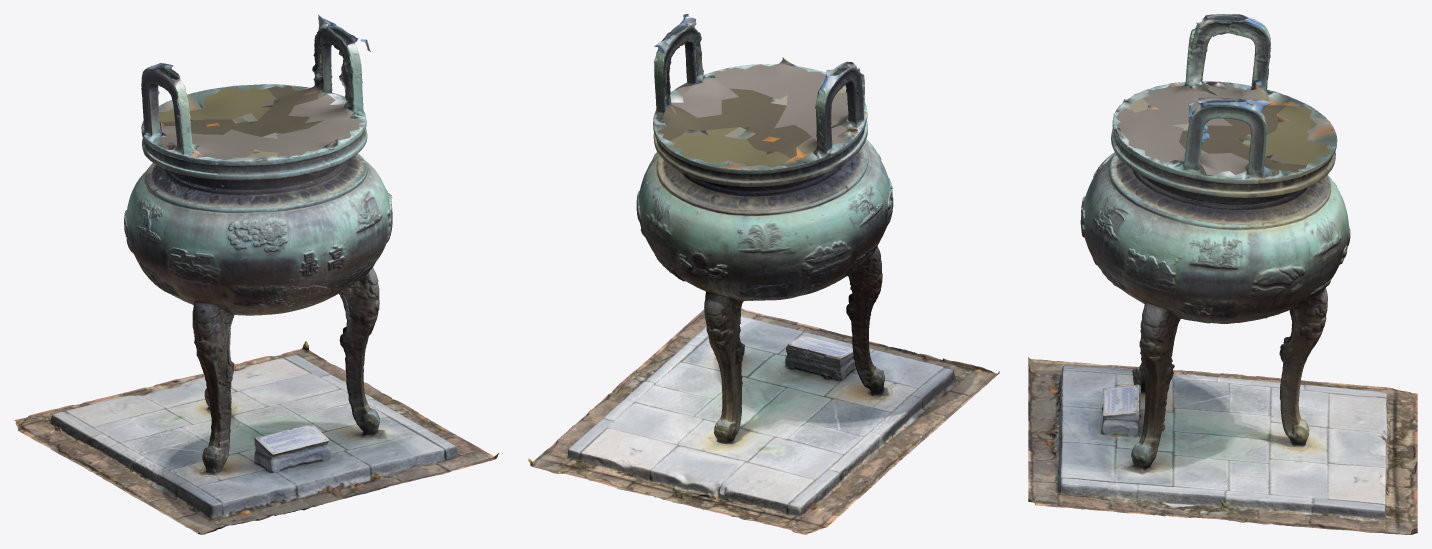
File: CAO-DINH-v1-2k.glb
The picture shows the model from 3 angles, left to right: view 1: azimuth 30°, elevation 25°; view 2: azimuth 150°, elevation 25°; view 3: azimuth 270°, elevation 25°; orthographic projection. The views are drawn at different scales.
Visible parts, largest first — view 1: Object_2; view 2: Object_2; view 3: Object_2.
Part boxes in pixels (x1=…): Object_2: x1=14, y1=14, x2=498, y2=534; Object_2: x1=528, y1=14, x2=999, y2=534; Object_2: x1=1028, y1=14, x2=1417, y2=534.
Bounding box in the file's own units: 3.03 × 3.91 × 3.38.
1 material, 1 textured.
